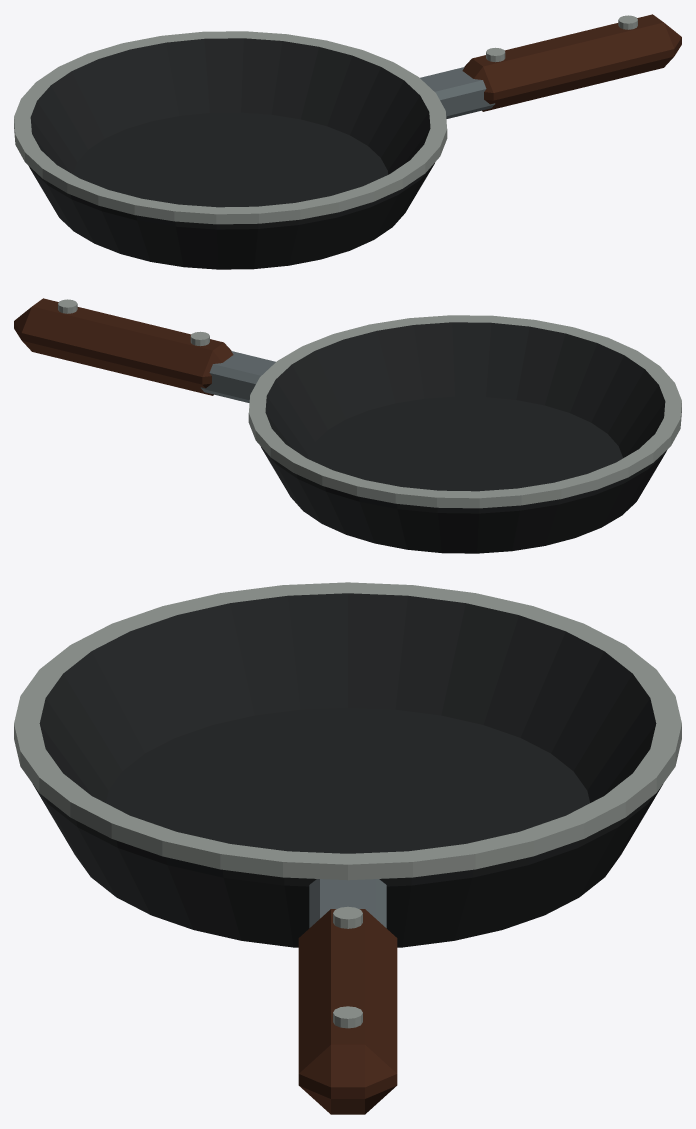
File: KitchenFryingPan.glb
The picture shows the model from 3 angles, top to bottom: view 1: azimuth 30°, elevation 25°; view 2: azimuth 150°, elevation 25°; view 3: azimuth 270°, elevation 25°; orthographic projection. The views are drawn at different scales.
Visible parts, largest first — view 1: HollowPan, PanLip, WoodenPanHandle, HandleNeck; view 2: HollowPan, PanLip, WoodenPanHandle, HandleNeck; view 3: HollowPan, PanLip, WoodenPanHandle, HandleNeck.
Boxes of the visible parts, x1=… form: HollowPan: x1=29, y1=38, x2=434, y2=269; PanLip: x1=14, y1=31, x2=447, y2=224; WoodenPanHandle: x1=462, y1=14, x2=681, y2=111; HandleNeck: x1=420, y1=67, x2=495, y2=119; HollowPan: x1=261, y1=322, x2=666, y2=553; PanLip: x1=248, y1=315, x2=681, y2=508; WoodenPanHandle: x1=14, y1=298, x2=233, y2=395; HandleNeck: x1=200, y1=351, x2=275, y2=403; HollowPan: x1=33, y1=593, x2=662, y2=947; PanLip: x1=14, y1=582, x2=681, y2=880; WoodenPanHandle: x1=298, y1=909, x2=397, y2=1114; HandleNeck: x1=309, y1=879, x2=386, y2=927.
Bounding box in the file's own units: 2.63 × 0.3445 × 1.56.
